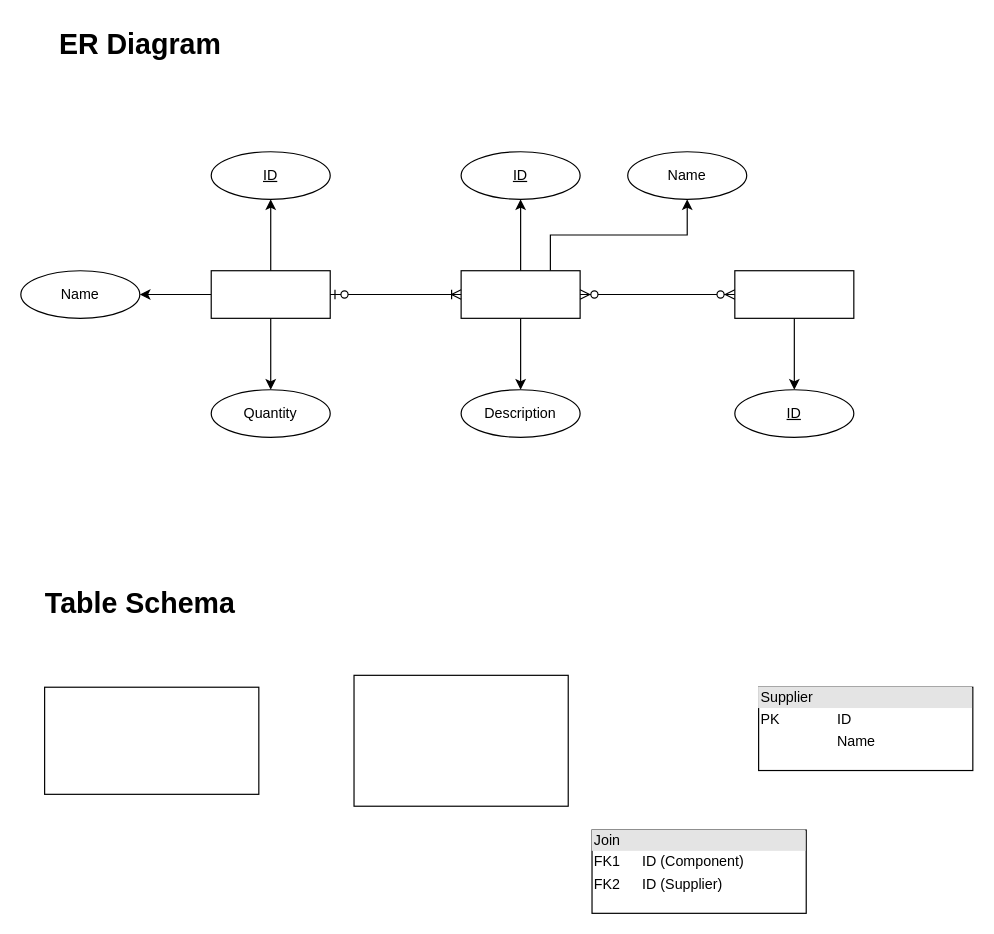
Some shapes in this 994 by 934 pixel diagram are drawn without their labels. Each missing label, with the centre of its shape:
Component: point 520,294
Component PK ID FK1 ID (Product) Name Description: point 460,740
Product: point 270,294
Product PK ID Name Quantity: point 151,740
Supplier: point 794,294
